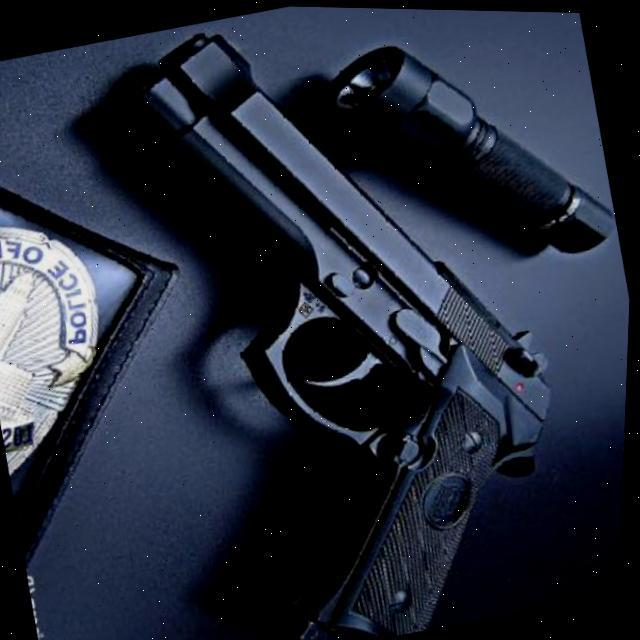gun: (85, 2, 610, 640)
